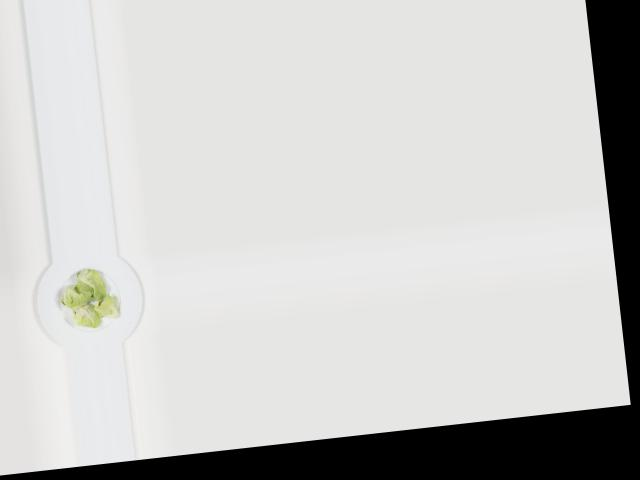lettuce: (54, 260, 122, 330)
